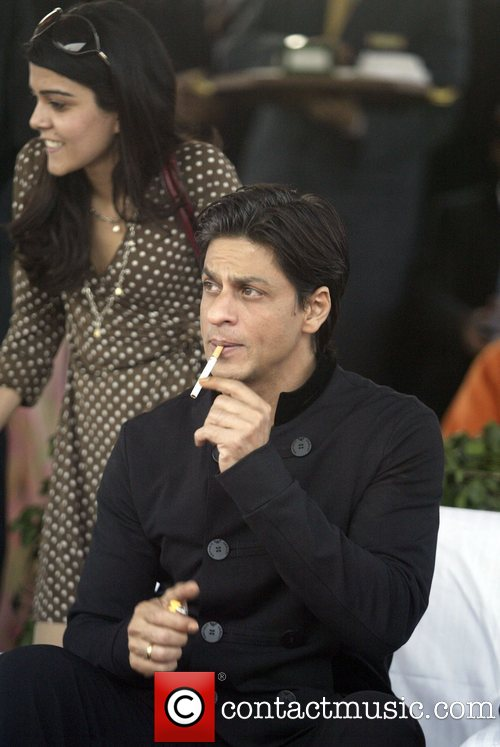cigarette: (187, 341, 229, 399)
